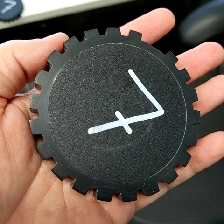gear: (27, 26, 202, 204)
missing: (125, 27, 180, 66)
